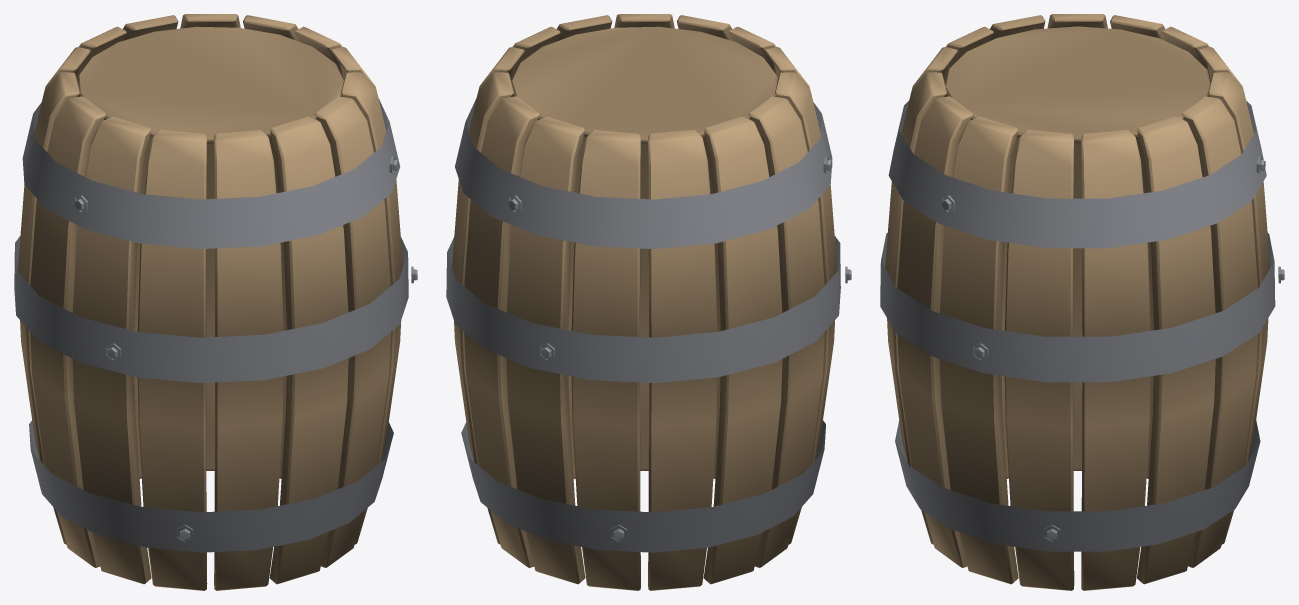
Rendered from rig_barrel.glb.
The picture shows the model from 3 angles, left to right: view 1: azimuth 30°, elevation 25°; view 2: azimuth 150°, elevation 25°; view 3: azimuth 270°, elevation 25°; orthographic projection.
Visible parts, largest first — view 1: rig_barrel; view 2: rig_barrel; view 3: rig_barrel.
Part boxes in pixels (box(x1,y1,x2,y2)): rig_barrel: box(14, 14, 417, 590); rig_barrel: box(446, 14, 851, 590); rig_barrel: box(880, 14, 1284, 590).
Size of the model in its own units: 0.7113 by 0.9 by 0.7309.
